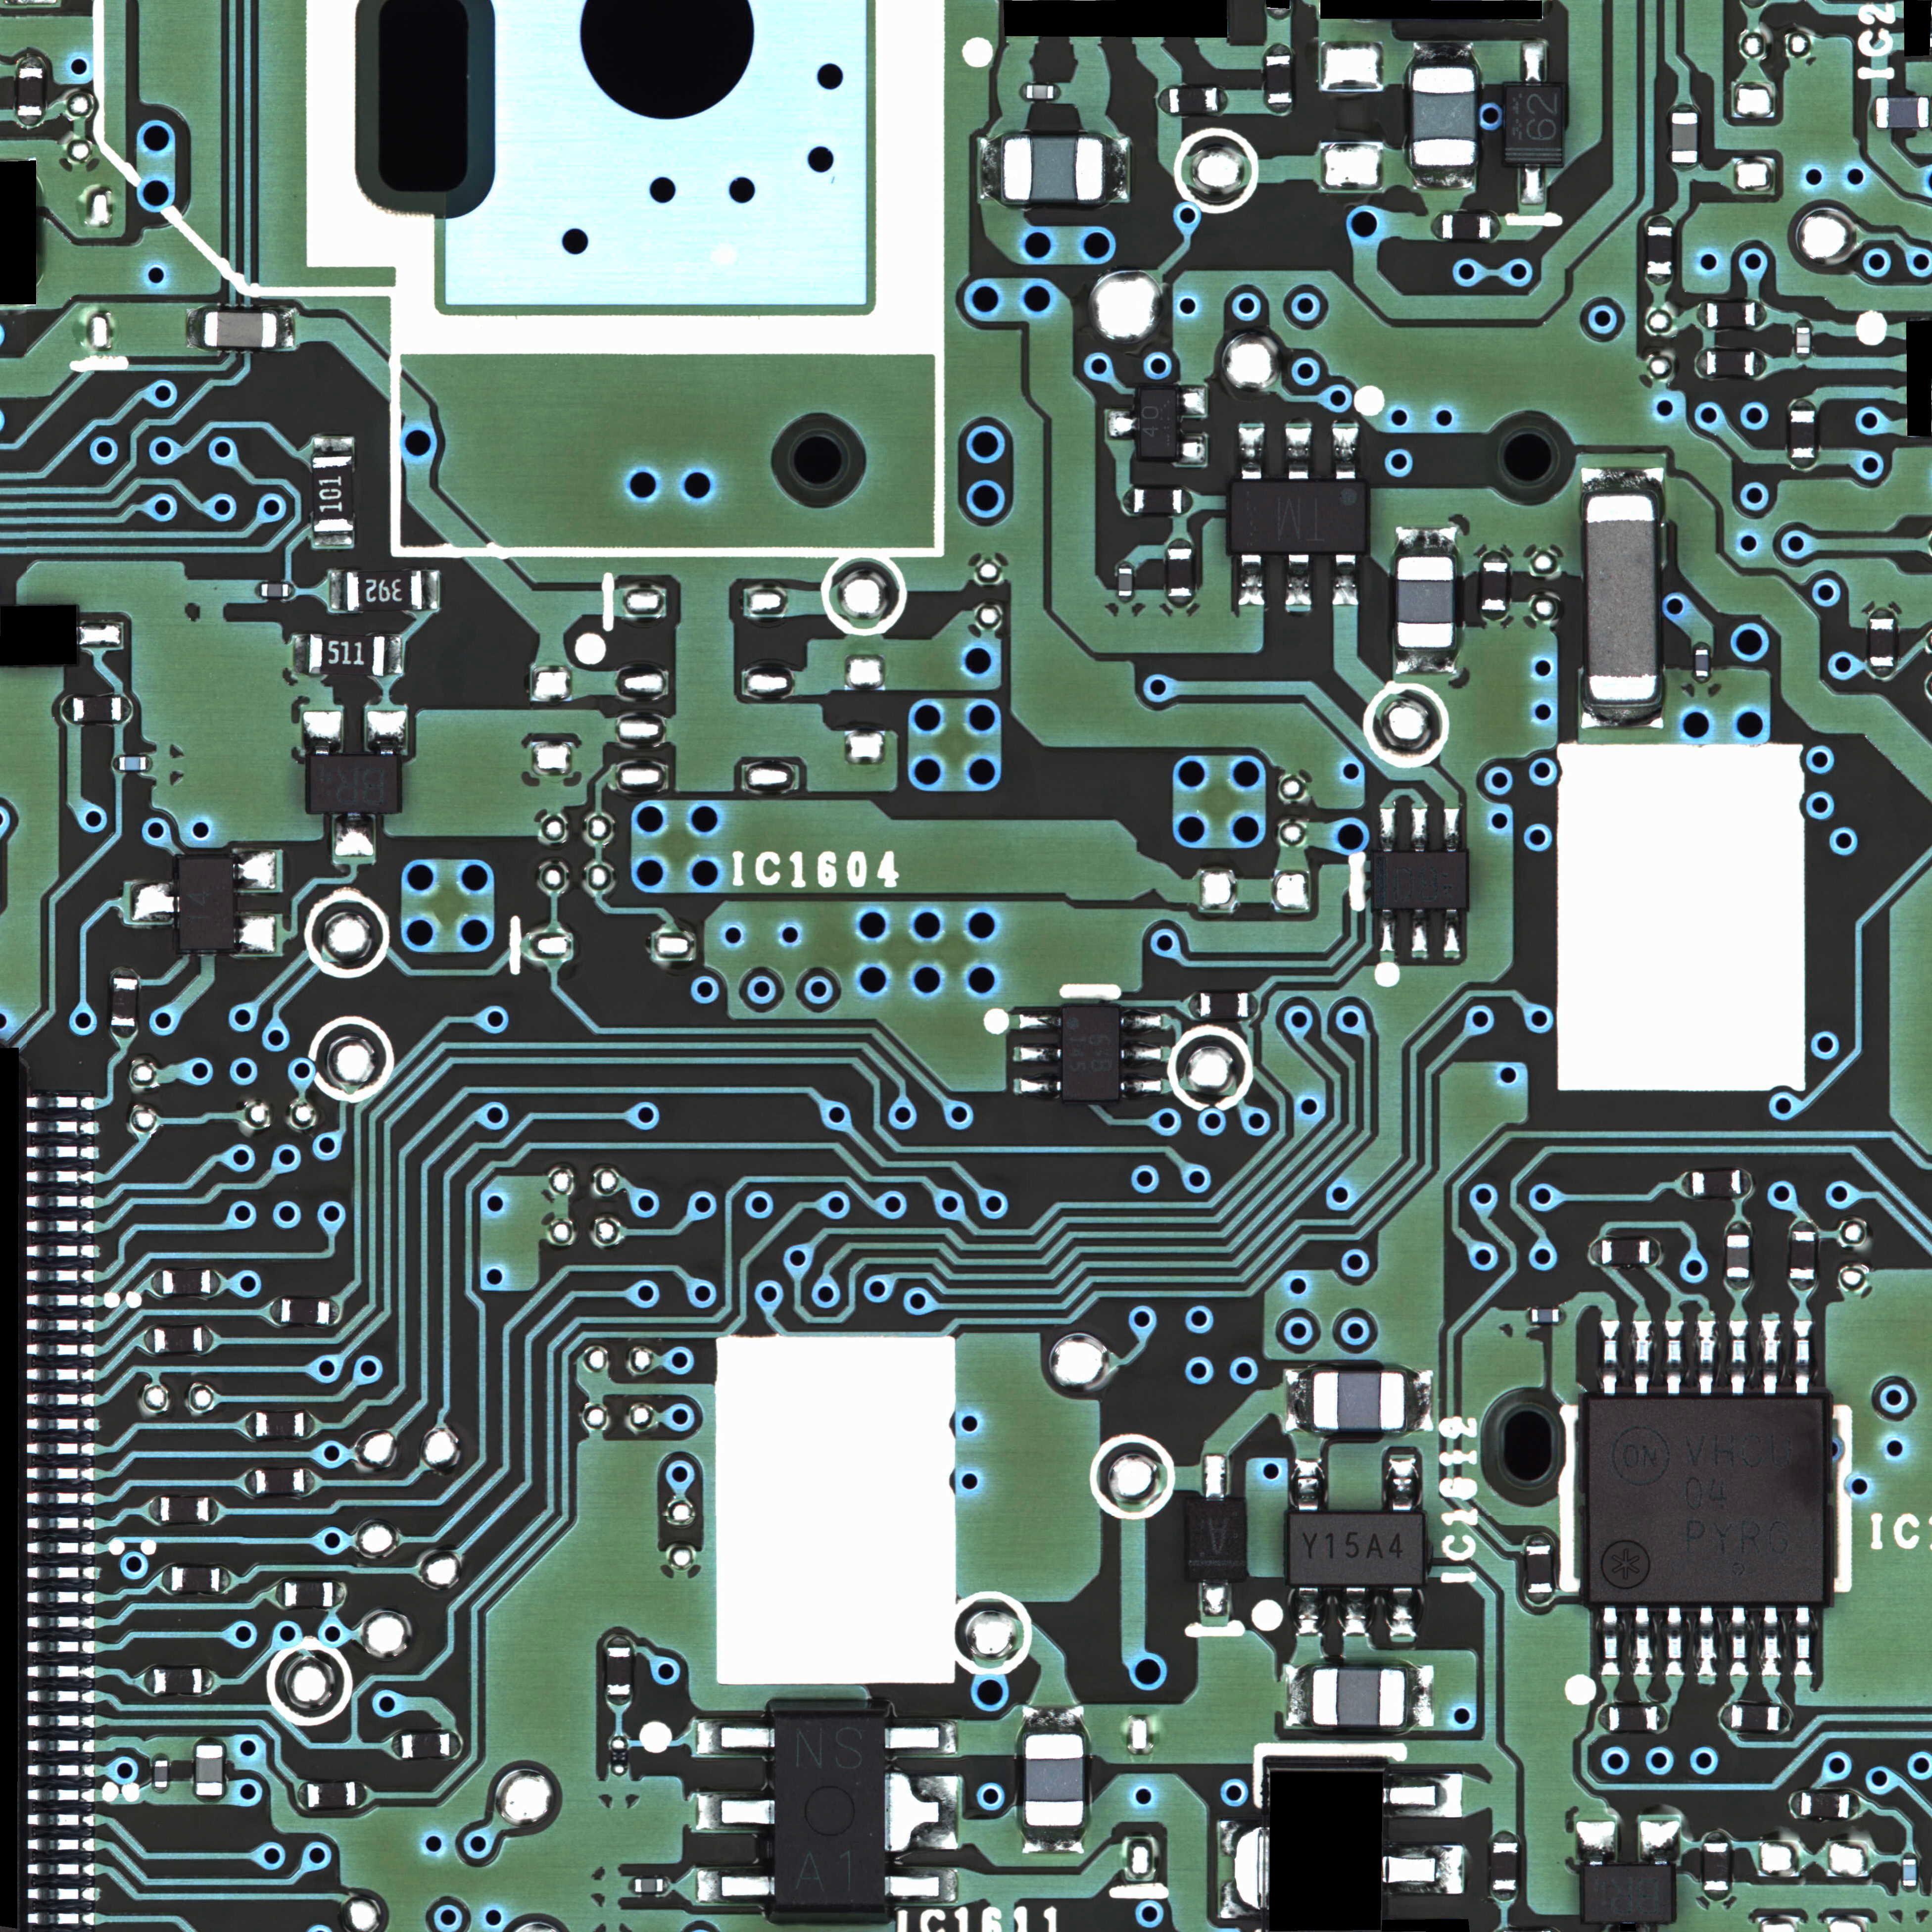Package: (1588, 1396, 1825, 1606), (775, 1715, 884, 1905), (1584, 495, 1657, 700), (1290, 1511, 1423, 1586), (1231, 481, 1365, 554), (1004, 139, 1102, 200), (1413, 69, 1476, 165), (1062, 1007, 1120, 1099), (1581, 1866, 1675, 1923), (1374, 851, 1465, 909), (1313, 1669, 1405, 1726), (1026, 1735, 1083, 1825), (1314, 1372, 1403, 1429), (1398, 556, 1454, 647), (310, 756, 395, 812), (180, 857, 232, 949), (1187, 1500, 1245, 1580), (1505, 86, 1560, 164), (310, 633, 384, 676), (313, 456, 352, 531), (347, 571, 421, 610), (204, 311, 277, 348), (1141, 388, 1175, 458), (1877, 96, 1929, 129), (196, 1745, 223, 1795), (1732, 1703, 1780, 1731), (1167, 548, 1194, 597), (1525, 1544, 1552, 1593), (1672, 113, 1698, 163), (1692, 1170, 1741, 1197), (1801, 1791, 1848, 1818), (1266, 55, 1292, 103), (111, 977, 137, 1026), (1482, 562, 1508, 611), (285, 1581, 333, 1607), (282, 1299, 330, 1324), (1789, 1231, 1815, 1279), (1647, 227, 1673, 274), (255, 1411, 304, 1436), (154, 1668, 202, 1693), (154, 1327, 202, 1352), (1704, 1843, 1729, 1891), (73, 697, 121, 722), (160, 1497, 208, 1522), (255, 1469, 304, 1493), (1170, 87, 1217, 112), (1134, 489, 1181, 514), (19, 68, 43, 116), (307, 1784, 354, 1808), (172, 1566, 220, 1591), (1706, 352, 1755, 376), (1790, 409, 1814, 458), (1443, 214, 1491, 238), (1602, 1239, 1649, 1263), (162, 1270, 210, 1294), (1870, 618, 1893, 666), (1708, 303, 1755, 327), (1494, 1842, 1517, 1890), (402, 1734, 450, 1757), (1202, 994, 1248, 1017), (1610, 1706, 1657, 1730), (608, 1647, 631, 1695), (1727, 1235, 1749, 1277), (635, 1878, 663, 1892), (1118, 567, 1132, 597), (1903, 1858, 1917, 1886), (118, 756, 145, 770), (1026, 85, 1053, 99), (1531, 1309, 1558, 1322), (155, 1759, 168, 1787), (1696, 650, 1709, 676), (1797, 327, 1809, 353), (263, 584, 288, 597)
Solder: (885, 1773, 963, 1851), (1221, 1821, 1267, 1917), (1384, 1846, 1464, 1893), (1386, 1778, 1462, 1818), (696, 1792, 774, 1829), (698, 1869, 774, 1905), (696, 1719, 774, 1754), (886, 1867, 957, 1904), (885, 1721, 957, 1754), (1581, 700, 1663, 728), (1580, 467, 1663, 494), (130, 882, 179, 922), (233, 849, 277, 891), (1640, 1820, 1680, 1865), (367, 710, 407, 755), (302, 711, 342, 754), (1103, 140, 1130, 201), (1406, 1666, 1434, 1727), (1286, 1370, 1313, 1432), (1397, 527, 1458, 554), (1405, 1370, 1433, 1432), (1286, 1664, 1312, 1727), (1413, 42, 1474, 69), (1023, 1826, 1083, 1853), (336, 813, 373, 856), (1791, 1321, 1813, 1395), (1758, 1319, 1780, 1395), (1696, 1320, 1717, 1396), (1022, 1706, 1084, 1733), (1663, 1321, 1685, 1396), (1579, 1823, 1618, 1863), (234, 915, 275, 953), (1598, 1319, 1619, 1395), (1395, 649, 1455, 675), (1412, 165, 1474, 189), (1389, 1457, 1415, 1510), (1729, 1320, 1747, 1395), (1633, 1607, 1653, 1676), (1665, 1607, 1686, 1677), (1698, 1607, 1718, 1677), (1793, 1607, 1814, 1676), (1761, 1607, 1781, 1676), (1727, 1607, 1747, 1676), (1633, 1321, 1651, 1395), (981, 139, 1003, 202), (1296, 1458, 1322, 1511), (1600, 1607, 1620, 1676), (1286, 429, 1312, 480), (1240, 429, 1265, 480), (1333, 428, 1358, 479), (1332, 554, 1357, 605), (1239, 555, 1264, 606), (1286, 555, 1311, 606), (1199, 1581, 1232, 1616), (1297, 1587, 1320, 1636), (1391, 1588, 1414, 1636), (1342, 1589, 1365, 1637), (77, 623, 122, 647), (1521, 43, 1546, 85), (1204, 1452, 1227, 1499), (1520, 165, 1546, 205), (1107, 408, 1140, 437), (1175, 435, 1206, 466), (28, 1738, 96, 1751), (28, 1787, 96, 1801), (28, 1813, 95, 1826), (27, 1615, 94, 1629), (28, 1640, 95, 1653), (28, 1665, 95, 1679), (28, 1690, 95, 1703), (27, 1491, 94, 1504), (27, 1319, 94, 1333), (27, 1220, 94, 1234), (26, 1145, 94, 1159), (25, 1120, 93, 1134), (28, 1912, 95, 1925), (28, 1887, 95, 1900), (28, 1837, 95, 1850), (28, 1862, 95, 1875), (28, 1762, 95, 1776), (28, 1591, 95, 1604), (29, 1715, 96, 1729), (28, 1466, 95, 1479), (28, 1443, 95, 1456), (27, 1417, 94, 1431), (27, 1393, 94, 1406), (26, 1343, 93, 1356), (26, 1294, 93, 1307), (27, 1269, 94, 1282), (26, 1096, 93, 1110), (27, 1243, 94, 1256), (1176, 384, 1205, 414), (27, 1566, 94, 1579), (26, 1195, 94, 1207), (26, 1170, 94, 1183), (28, 1541, 95, 1554), (28, 1516, 95, 1529), (27, 1368, 94, 1381), (1444, 807, 1461, 850), (1412, 808, 1429, 851), (314, 437, 353, 455), (1018, 1014, 1062, 1030), (1020, 1078, 1062, 1095), (421, 570, 439, 609), (1379, 808, 1396, 851), (186, 309, 203, 348), (1412, 910, 1428, 951), (1021, 1046, 1062, 1062), (1444, 909, 1459, 950), (1379, 910, 1395, 951), (386, 634, 401, 675), (278, 310, 294, 349), (293, 634, 309, 676), (331, 571, 346, 611), (1121, 1015, 1161, 1030), (1121, 1047, 1161, 1062), (1121, 1080, 1161, 1094), (315, 532, 352, 545), (1188, 992, 1201, 1018), (1158, 86, 1170, 113), (18, 55, 44, 68), (1727, 1220, 1750, 1234), (202, 1326, 214, 1353), (148, 1495, 159, 1522), (1720, 1704, 1732, 1732), (1482, 550, 1508, 562), (1167, 597, 1195, 608), (1647, 215, 1674, 226), (1727, 1278, 1751, 1290), (1756, 302, 1768, 328), (1696, 301, 1708, 327), (334, 1580, 345, 1607), (143, 1666, 154, 1693), (1598, 1703, 1609, 1731), (111, 1027, 138, 1039), (1680, 1170, 1691, 1196), (62, 695, 72, 723), (1430, 214, 1442, 239), (269, 1297, 280, 1322), (1590, 1238, 1601, 1264), (1648, 275, 1674, 286), (608, 1635, 631, 1647), (1671, 101, 1696, 112), (244, 1411, 254, 1438), (305, 1411, 315, 1437), (220, 1565, 231, 1592), (1849, 1791, 1860, 1818), (1494, 1830, 1517, 1842), (1868, 97, 1876, 131), (150, 1271, 161, 1296), (203, 1668, 214, 1693), (1267, 9, 1292, 20), (161, 1565, 172, 1591), (451, 1732, 461, 1757), (355, 1783, 367, 1806), (1871, 667, 1894, 678), (1181, 490, 1193, 513), (1704, 1831, 1728, 1842), (18, 116, 43, 126), (1791, 459, 1816, 470), (143, 1326, 152, 1352), (390, 1733, 400, 1759), (1791, 398, 1814, 409), (1755, 352, 1766, 376), (210, 1270, 221, 1295), (1741, 1168, 1750, 1197), (1650, 1238, 1660, 1264), (122, 697, 132, 722), (1781, 1706, 1791, 1730), (1790, 1220, 1814, 1231), (330, 1297, 339, 1324), (1790, 1790, 1800, 1817), (1791, 1280, 1815, 1290), (1869, 606, 1892, 617), (1123, 488, 1133, 513), (305, 1468, 315, 1494), (1696, 352, 1706, 376), (1266, 43, 1291, 53), (210, 1496, 219, 1522), (245, 1468, 254, 1493), (195, 1736, 223, 1744), (1659, 1705, 1668, 1730), (1167, 537, 1191, 547), (1495, 1890, 1516, 1901), (1219, 90, 1229, 111), (1705, 1892, 1730, 1901), (1266, 104, 1292, 113), (1492, 215, 1501, 239), (1482, 612, 1508, 621), (610, 1695, 631, 1705), (196, 1796, 223, 1804), (1249, 995, 1258, 1018), (297, 1782, 305, 1806), (113, 967, 136, 975), (276, 1580, 283, 1606), (1674, 163, 1697, 171), (1558, 1308, 1567, 1322), (1054, 84, 1061, 101), (1694, 641, 1709, 649), (154, 1788, 169, 1795), (145, 756, 152, 771), (1018, 83, 1025, 98), (1798, 353, 1810, 361), (254, 583, 260, 597), (289, 584, 295, 598), (664, 1877, 670, 1891), (1795, 318, 1808, 325), (628, 1877, 634, 1891), (1696, 678, 1709, 684), (112, 756, 117, 772), (1117, 597, 1132, 603), (1524, 1308, 1529, 1324), (1904, 1887, 1917, 1893), (1119, 560, 1131, 566), (154, 1752, 165, 1759), (1903, 1853, 1915, 1857)
